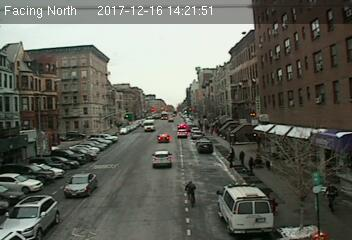bicycle: (184, 180, 198, 211)
car: (2, 193, 57, 240), (64, 172, 95, 195), (152, 150, 172, 168), (196, 139, 214, 154), (157, 133, 170, 142), (176, 129, 188, 138)
police: (215, 181, 275, 235)
